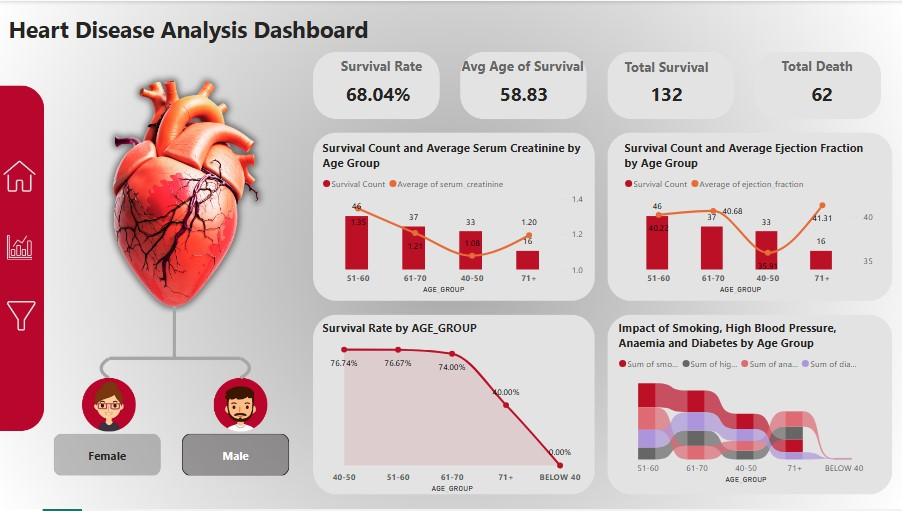

The page's visual inventory and layout, read from the dashboard file:
{"tool":"powerbi","page":{"name":"Page 1","canvas":[1280,720],"ordinal":0},"visuals":[{"type":"textbox","box":[10.1,13.4,535.9,60.5],"z":0},{"type":"card","fields":{"Values":["heart_Disease_clinical_records_.Survival Rate"]},"box":[436.5,62.4,204.1,140.3],"z":1000},{"type":"card","fields":{"Values":["heart_Disease_clinical_records_.Average of Survival"]},"box":[639.2,62.4,212.6,140.3],"z":2000},{"type":"card","fields":{"Values":["heart_Disease_clinical_records_.Total Survivour"]},"box":[851.8,62.4,191.3,140.3],"z":3000},{"type":"card","fields":{"Values":["heart_Disease_clinical_records_.Total Death"]},"box":[1068.7,68,198.4,129],"z":4000},{"type":"textbox","box":[470.6,73.7,148.8,38.3],"z":5000},{"type":"textbox","box":[652,73.7,199.8,39.7],"z":6000},{"type":"textbox","box":[883,75.1,150.2,38.3],"z":7000},{"type":"textbox","box":[1105.9,73.4,125.3,40.3],"z":8000},{"type":"lineClusteredColumnComboChart","title":"Survival Count and Average Serum Creatinine by Age Group","fields":{"Category":["heart_Disease_clinical_records_.AGE_GROUP"],"Y":["CountNonNull(heart_Disease_clinical_records_.DEATH_EVENT)"],"Y2":["Avg(heart_Disease_clinical_records_.serum_creatinine)"]},"box":[455,197,381.3,222.5],"z":9000},{"type":"lineClusteredColumnComboChart","title":"Survival Count and Average Ejection Fraction by Age Group","fields":{"Category":["heart_Disease_clinical_records_.AGE_GROUP"],"Y":["CountNonNull(heart_Disease_clinical_records_.DEATH_EVENT)"],"Y2":["Avg(heart_Disease_clinical_records_.ejection_fraction)"]},"box":[883,197,362.8,222.5],"z":10000},{"type":"lineChart","fields":{"Category":["heart_Disease_clinical_records_.AGE_GROUP"],"Y":["heart_Disease_clinical_records_.Survival Rate"]},"box":[455,452.1,381.3,249.4],"z":11000},{"type":"ribbonChart","title":"Impact of Smoking, High Blood Pressure, Anaemia and Diabetes by Age Group","fields":{"Category":["heart_Disease_clinical_records_.AGE_GROUP"],"Y":["Sum(heart_Disease_clinical_records_.smoking)","Sum(heart_Disease_clinical_records_.high_blood_pressure)","Sum(heart_Disease_clinical_records_.anaemia)","Sum(heart_Disease_clinical_records_.diabetes)"]},"box":[874.5,452.1,371.3,236.7],"z":12000},{"type":"advancedSlicerVisual","fields":{"Values":["heart_Disease_clinical_records_.Gender"]},"box":[73.7,608,345.8,70.9],"z":13000}]}

Visuals, with their boxes in screenshot pixels (x1, y1, x2, y2), scaled from the page's 1280x720 canvas onto the 902x511 screenshot:
textbox: Rect(7, 10, 385, 52)
card - heart_Disease_clinical_records_.Survival Rate: Rect(308, 44, 451, 144)
card - heart_Disease_clinical_records_.Average of Survival: Rect(450, 44, 600, 144)
card - heart_Disease_clinical_records_.Total Survivour: Rect(600, 44, 735, 144)
card - heart_Disease_clinical_records_.Total Death: Rect(753, 48, 893, 140)
textbox: Rect(332, 52, 436, 79)
textbox: Rect(459, 52, 600, 80)
textbox: Rect(622, 53, 728, 80)
textbox: Rect(779, 52, 868, 81)
"Survival Count and Average Serum Creatinine by Age Group" lineClusteredColumnComboChart: Rect(321, 140, 589, 298)
"Survival Count and Average Ejection Fraction by Age Group" lineClusteredColumnComboChart: Rect(622, 140, 878, 298)
lineChart - heart_Disease_clinical_records_.AGE_GROUP x heart_Disease_clinical_records_.Survival Rate: Rect(321, 321, 589, 498)
"Impact of Smoking, High Blood Pressure, Anaemia and Diabetes by Age Group" ribbonChart: Rect(616, 321, 878, 489)
advancedSlicerVisual - heart_Disease_clinical_records_.Gender: Rect(52, 432, 296, 482)
